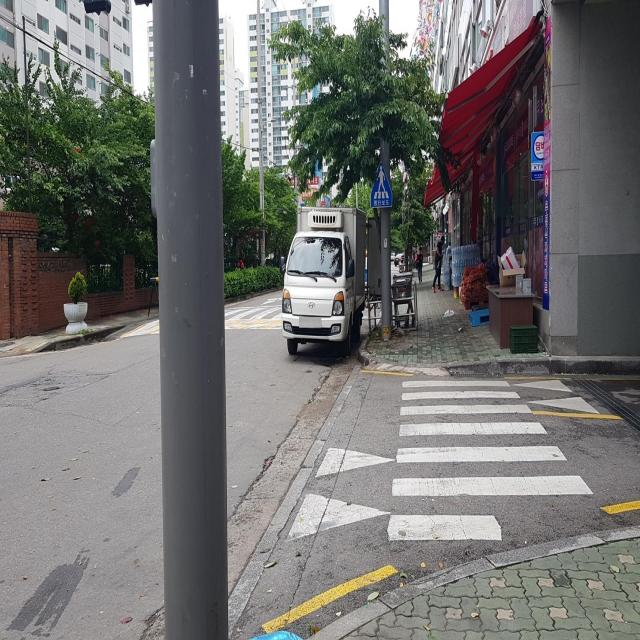횡단보도: (386, 376, 596, 543)
